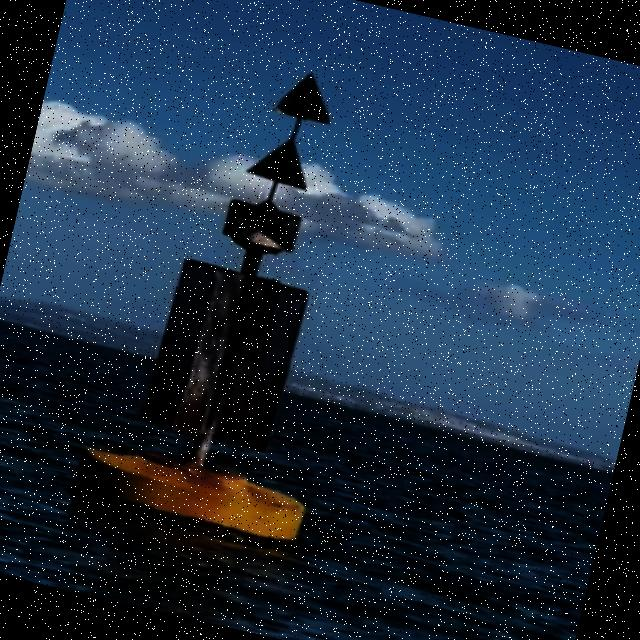marque: (63, 41, 404, 562)
